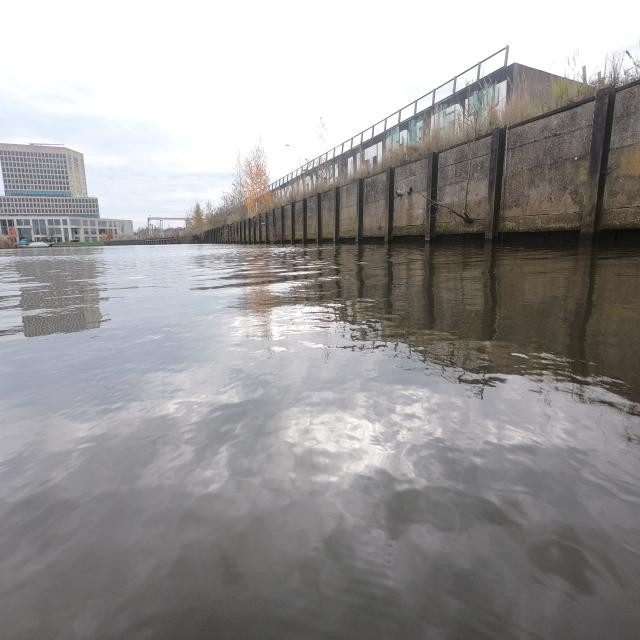sky: (4, 4, 638, 222)
wall: (184, 126, 490, 240), (494, 76, 638, 236)
water: (0, 240, 640, 640)
